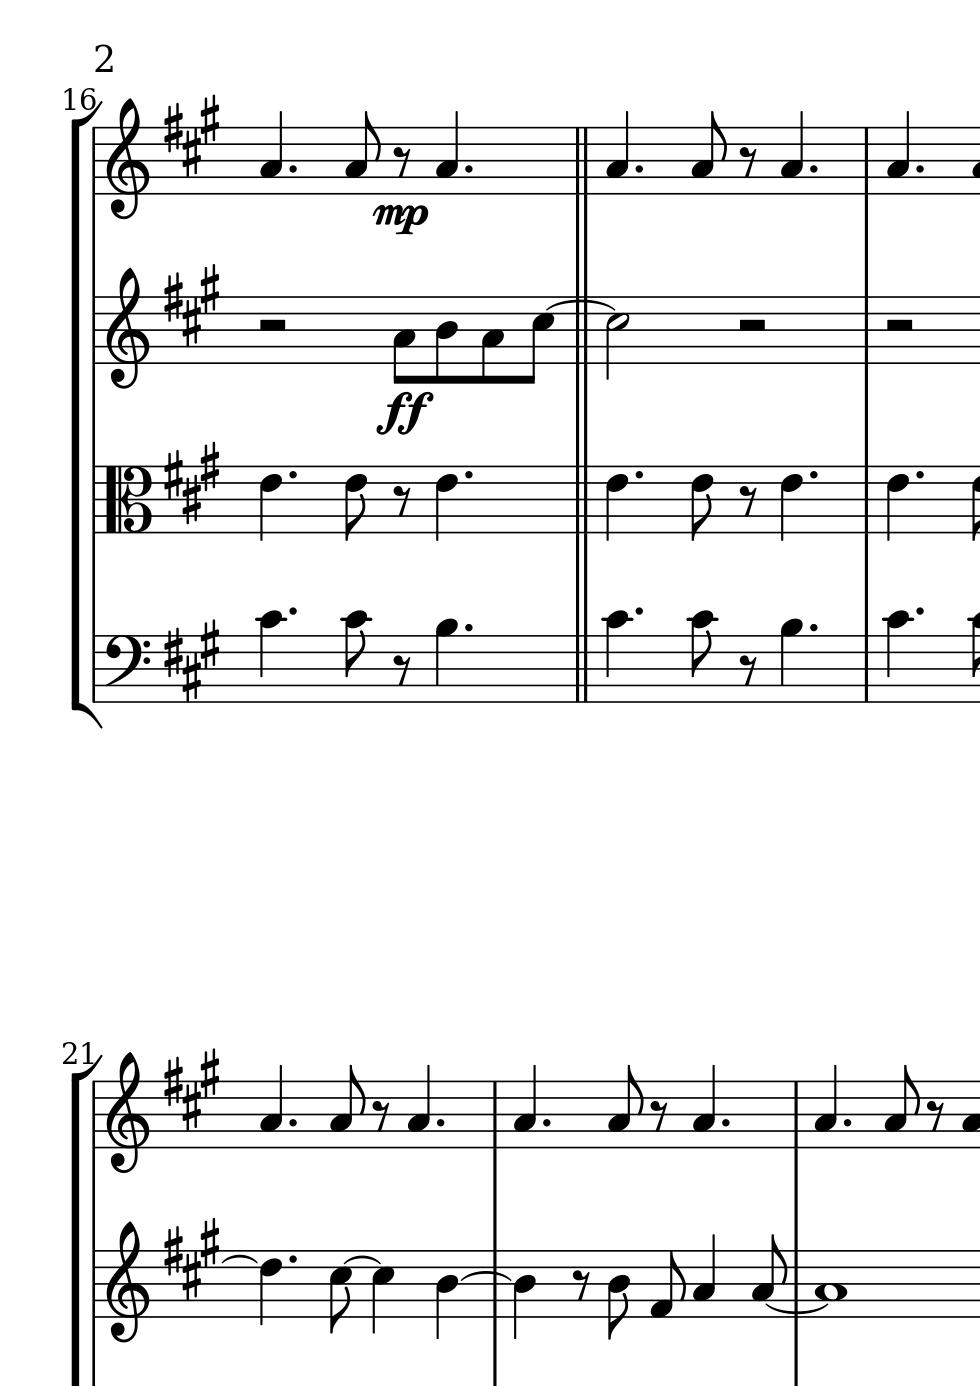1: (62, 86, 75, 113), (78, 1039, 93, 1065)
1_3: (813, 1248, 846, 1321)
2: (93, 43, 113, 73), (60, 1040, 78, 1067)
2_5: (603, 294, 630, 382)
4_10: (253, 608, 285, 705), (601, 608, 633, 705), (882, 608, 913, 705)
4_3: (603, 108, 631, 197), (258, 108, 285, 196), (434, 109, 461, 196), (258, 1063, 285, 1150), (778, 110, 806, 196), (885, 110, 911, 196), (406, 1063, 432, 1150), (512, 1063, 538, 1150), (692, 1063, 717, 1150), (813, 1064, 838, 1150), (692, 1233, 716, 1319)
4_4: (433, 1248, 459, 1341), (511, 1248, 538, 1340)
4_5: (370, 1248, 395, 1336)
4_6: (256, 464, 285, 543), (602, 463, 631, 543), (883, 463, 911, 544), (257, 1248, 284, 1328), (433, 464, 460, 543), (777, 464, 804, 544)
4_9: (432, 617, 460, 705), (777, 617, 806, 704)
6: (78, 85, 97, 111)
8_1: (648, 1249, 686, 1320)
8_10: (684, 609, 719, 705), (338, 609, 372, 705)
8_3: (343, 109, 380, 195), (605, 1064, 642, 1150), (750, 1232, 786, 1320), (690, 109, 727, 196), (328, 1063, 364, 1150), (882, 1064, 918, 1150), (478, 294, 504, 387), (390, 294, 415, 386)
8_4: (432, 294, 459, 387), (605, 1249, 631, 1341)
8_5: (522, 294, 554, 386), (327, 1249, 352, 1334)
8_6: (688, 463, 715, 543), (342, 463, 368, 542)
A_S: (161, 1049, 220, 1131), (159, 1217, 217, 1300), (161, 264, 220, 346), (161, 95, 218, 177), (161, 619, 218, 701)
Bracke: (67, 100, 106, 729)
Cclef: (103, 464, 154, 536)
Double_barline: (568, 464, 596, 534), (568, 127, 595, 195), (572, 298, 598, 366), (570, 635, 596, 703)
E_S: (159, 440, 216, 526)
Fclef: (102, 633, 152, 706)
Gclef: (104, 1049, 152, 1177), (104, 1218, 152, 1345), (104, 97, 151, 221), (104, 265, 151, 389)
Rests2: (733, 314, 772, 338), (879, 314, 917, 337), (253, 314, 290, 337)
Rests8: (737, 143, 759, 179), (736, 483, 758, 519), (390, 652, 413, 688), (568, 1267, 591, 1303), (390, 483, 412, 519), (737, 652, 758, 687), (649, 1098, 670, 1133), (925, 1099, 946, 1134), (371, 1098, 391, 1133), (392, 144, 413, 178)
Single_barline: (857, 297, 875, 363), (486, 1082, 503, 1148), (788, 1082, 805, 1148), (858, 128, 875, 194), (858, 467, 875, 532), (787, 1250, 804, 1316), (86, 464, 102, 534), (858, 636, 875, 701), (87, 128, 102, 195), (87, 297, 102, 364), (87, 636, 102, 703), (87, 1082, 101, 1148), (87, 1251, 101, 1318)
Slur: (456, 1267, 514, 1285), (768, 1302, 830, 1315), (342, 1255, 382, 1267), (218, 1255, 258, 1265)
dot: (913, 466, 927, 484), (461, 468, 475, 483), (840, 1116, 854, 1130), (807, 467, 820, 483), (540, 1116, 553, 1131), (631, 606, 645, 619), (912, 606, 926, 619), (285, 1253, 299, 1267), (286, 468, 299, 483), (632, 468, 645, 483), (434, 1116, 447, 1130), (286, 1115, 298, 1130), (719, 1115, 731, 1130), (632, 162, 645, 176), (913, 162, 926, 176), (285, 606, 298, 619), (461, 621, 474, 635), (806, 622, 820, 635), (286, 161, 298, 176), (462, 161, 474, 176), (807, 162, 819, 176)
ff: (375, 388, 432, 437)
mp: (370, 203, 430, 236)
